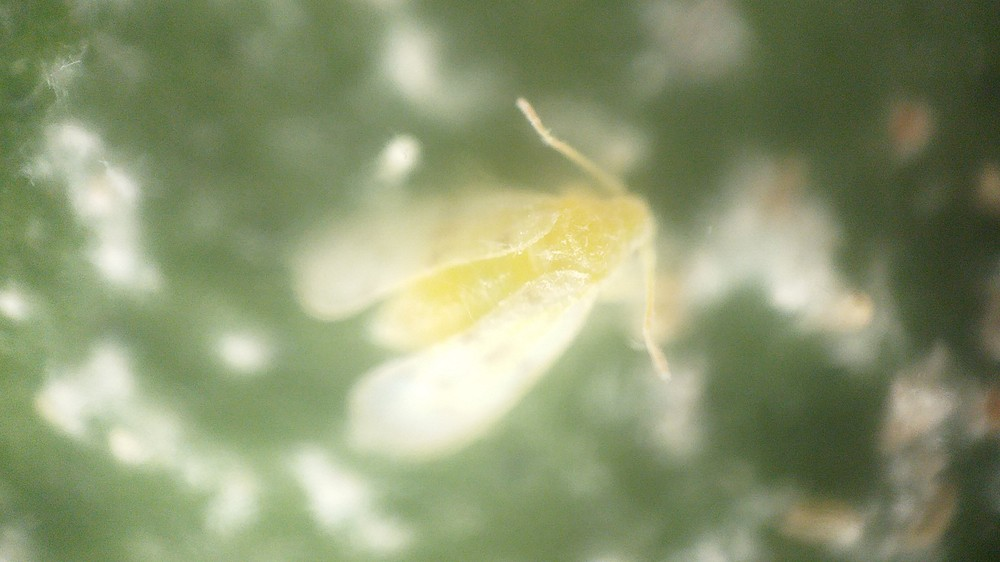Mosca Blanca: (281, 101, 705, 477)
